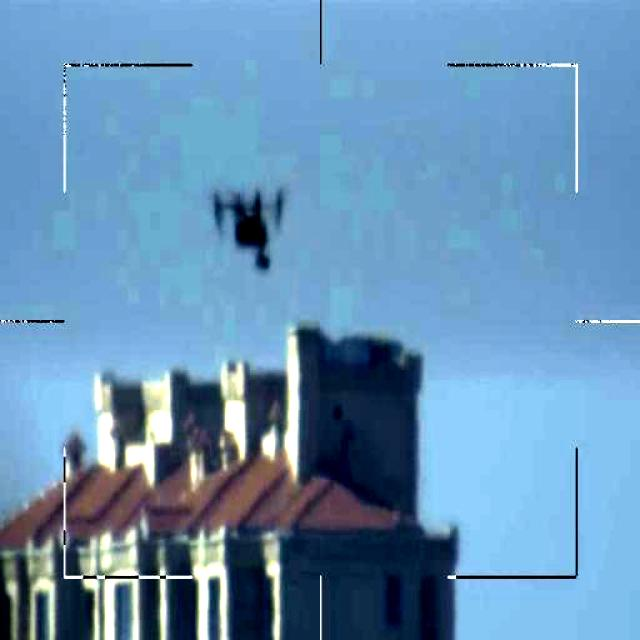bird: (209, 176, 288, 272)
